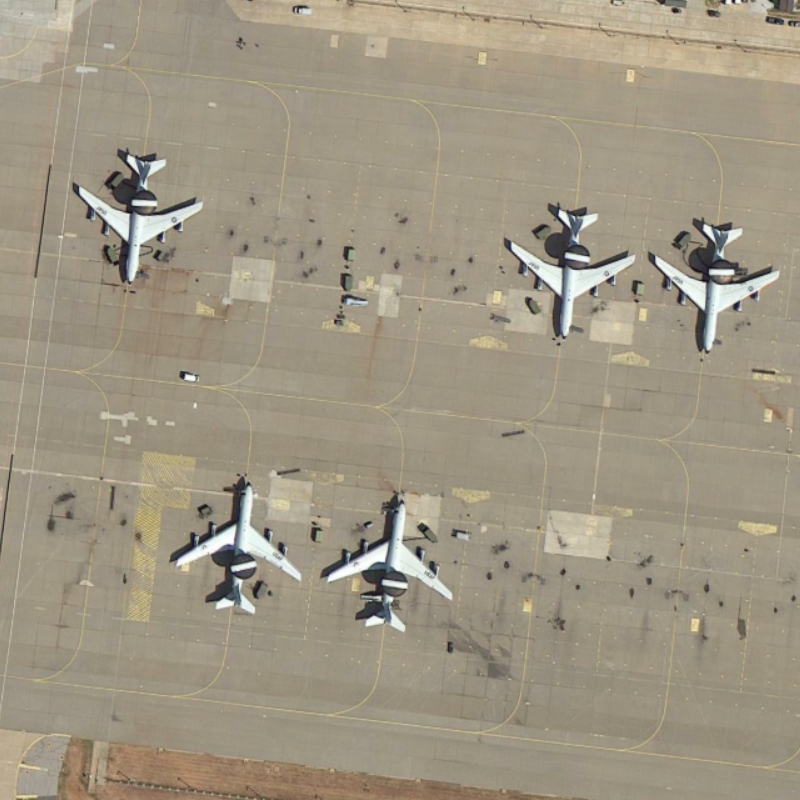A7: (643, 213, 783, 362), (167, 472, 306, 621), (71, 146, 209, 289), (320, 494, 455, 638), (500, 205, 638, 344)
